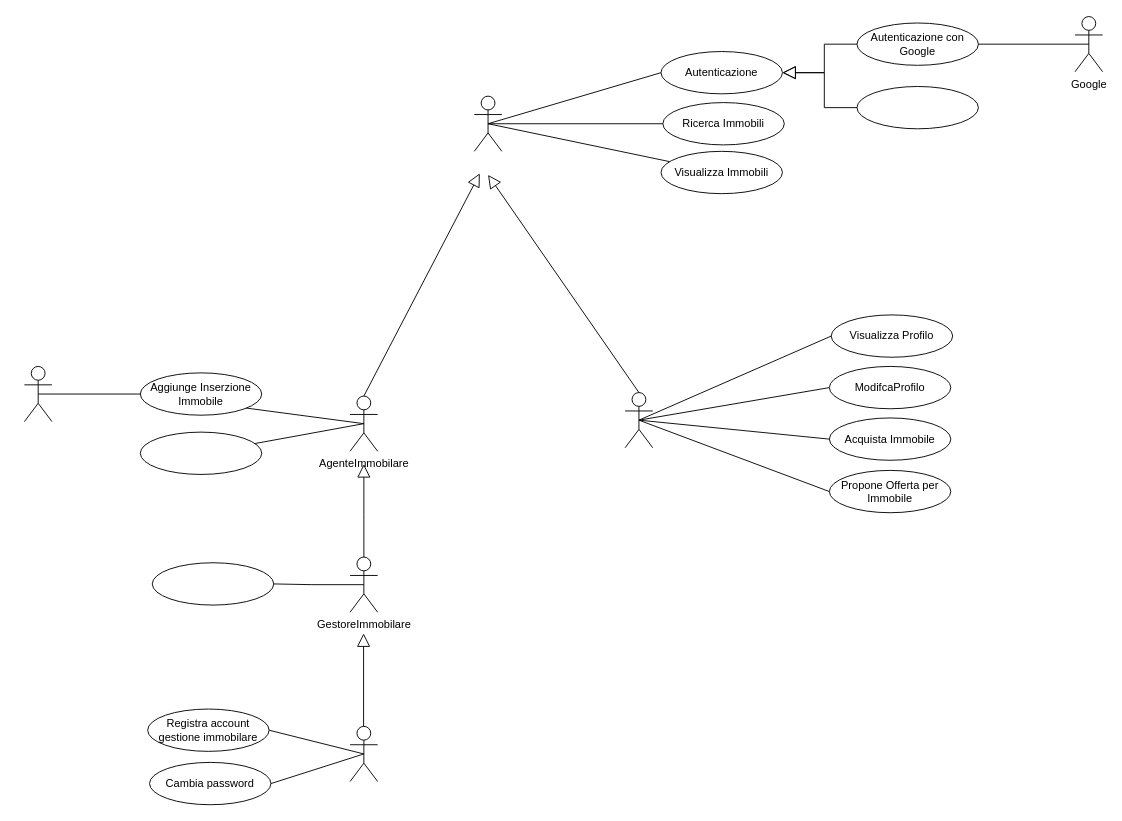
Image size: 1122x821. Some labels were removed from this diagram. Each missing label, with the box of its shape:
Amministratore: (349, 725, 378, 782)
Autenticazione con credenziali: (856, 86, 978, 129)
Geoapify: (23, 366, 52, 422)
Gestione Offerte: (139, 431, 262, 474)
Registra account agente immobilare: (151, 562, 274, 605)
Utente Non Registrato: (473, 95, 502, 151)
Utente Registrato: (624, 392, 653, 448)
